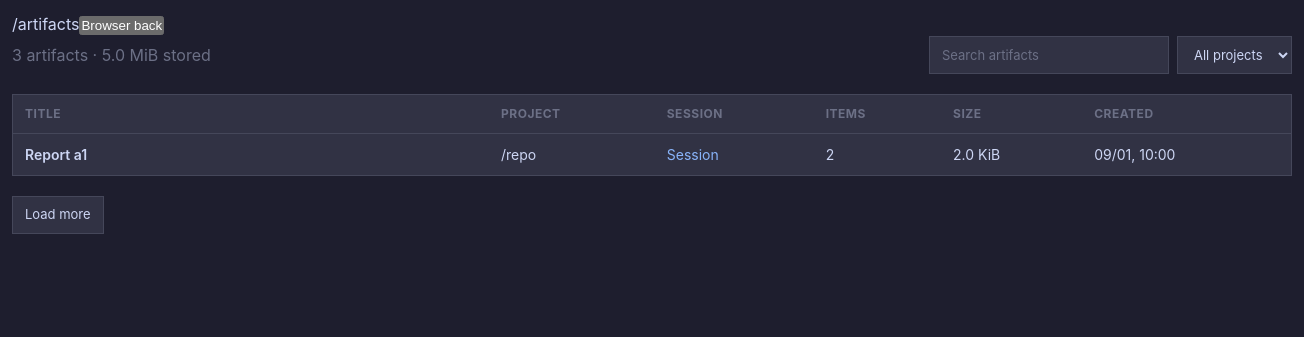
Artifacts page › retries the failed next page without losing loaded rows
The image size is (1304, 337).
Click the button "Load more". click: click(58, 215)
box: [12,196,104,234]
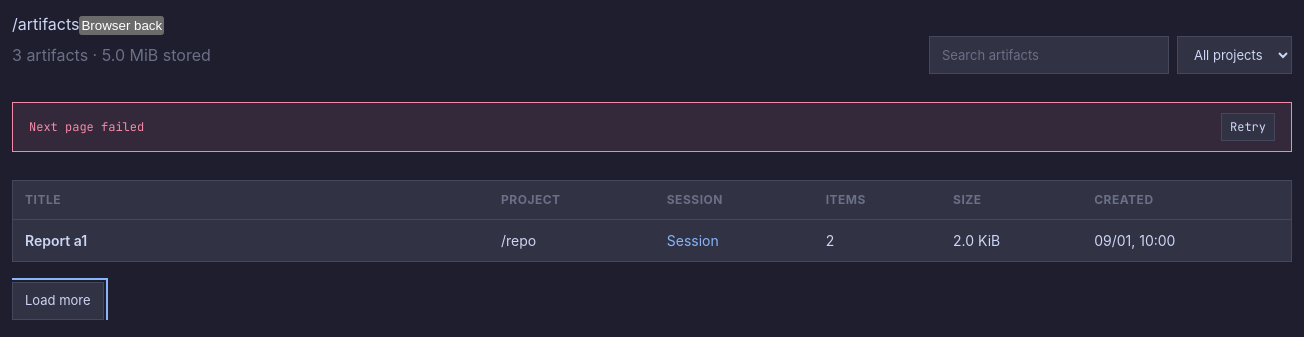
Expected: the link "Report a1" is shown, [25,232,87,249]
Now the message shows "Next page failed", box [29,119,144,135]
Click the button "Retry". click: click(1248, 127)
box: [1221,113,1275,141]
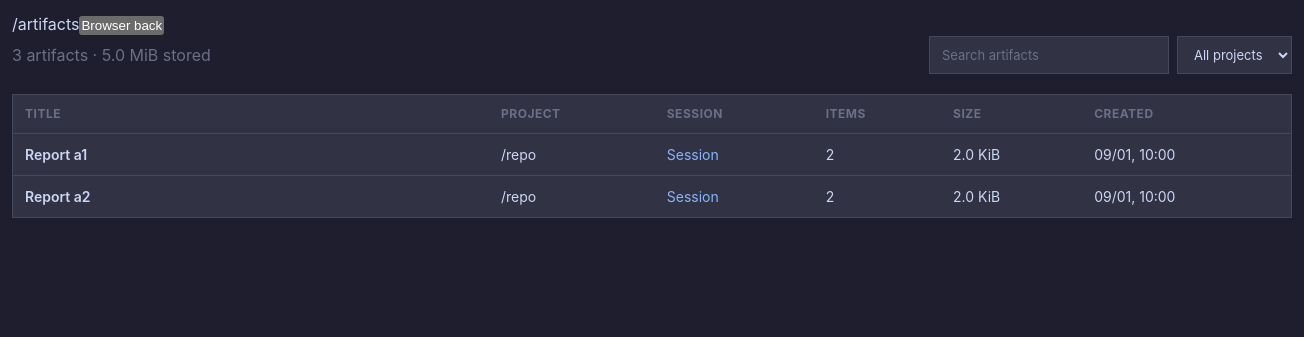
Expected: the link "Report a1" is shown, [25,146,87,163]
Now the link "Report a2" is shown, box [25,188,90,205]
Now the message "Next page failed Retry" is gone
